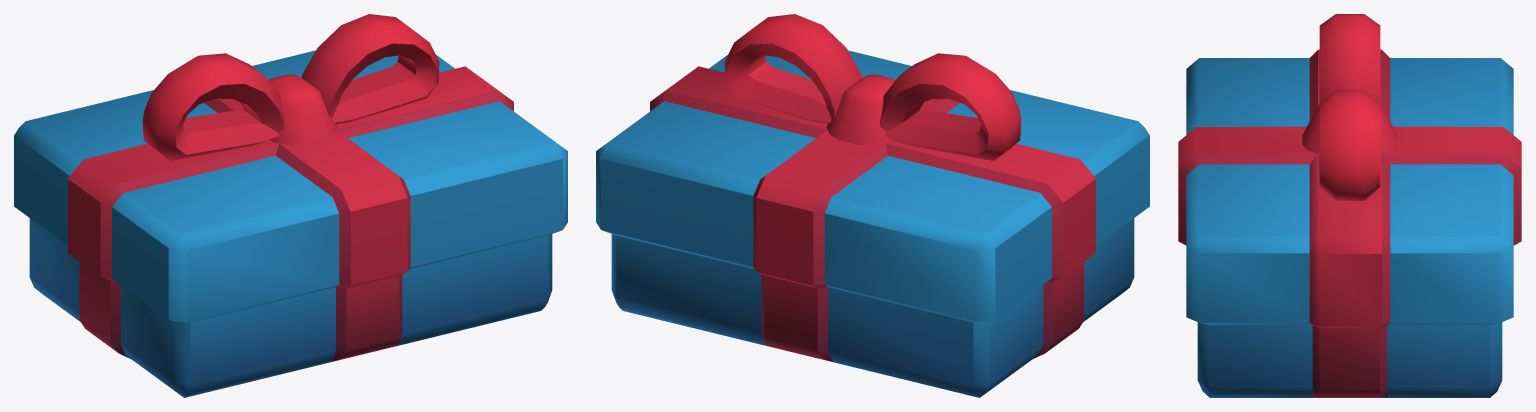
The model's file is present_C_blue.obj.
The picture shows the model from 3 angles, left to right: view 1: azimuth 30°, elevation 25°; view 2: azimuth 150°, elevation 25°; view 3: azimuth 270°, elevation 25°; orthographic projection. The views are drawn at different scales.
Parts seen in each view (by area): view 1: present_C_blue; view 2: present_C_blue; view 3: present_C_blue.
Boxes of the visible parts, left/top/right/bottom form: present_C_blue: left=14, top=14, right=567, bottom=397; present_C_blue: left=596, top=14, right=1149, bottom=397; present_C_blue: left=1178, top=14, right=1521, bottom=397.
Size of the model in its own units: 0.7638 by 0.4617 by 0.5638.
1 material, 1 textured.
